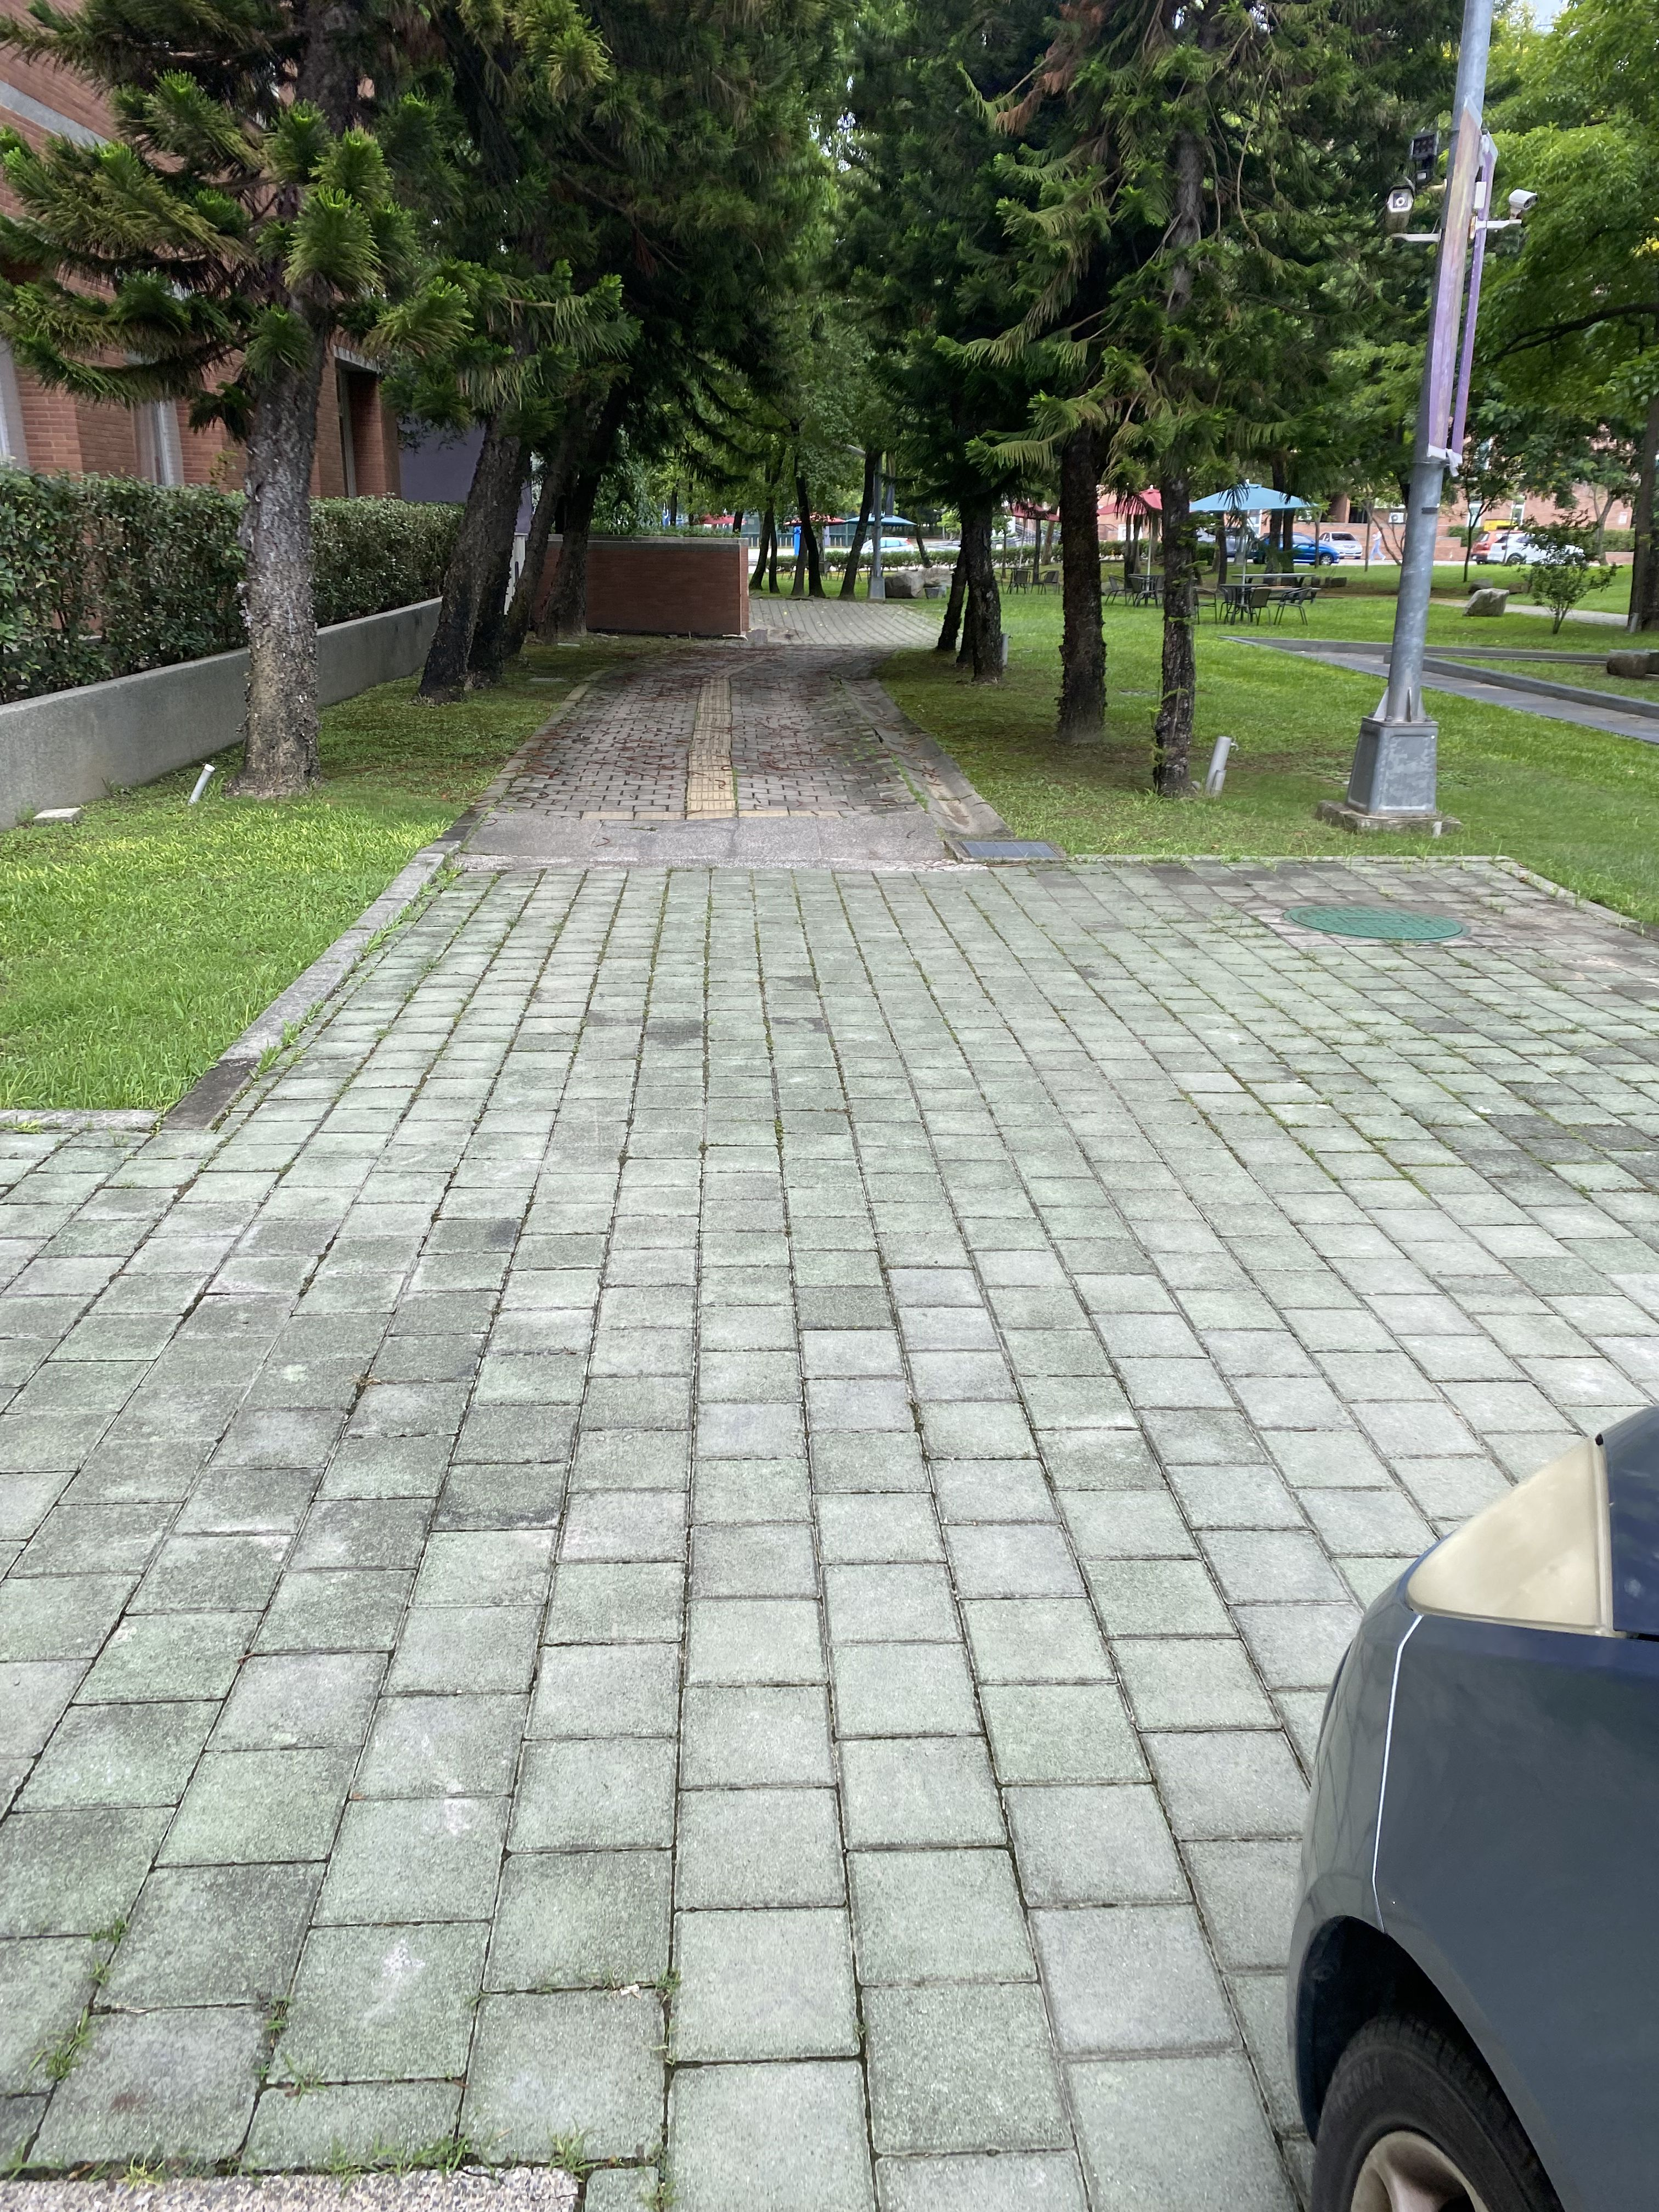sidewalk: (387, 577, 1253, 2212)
